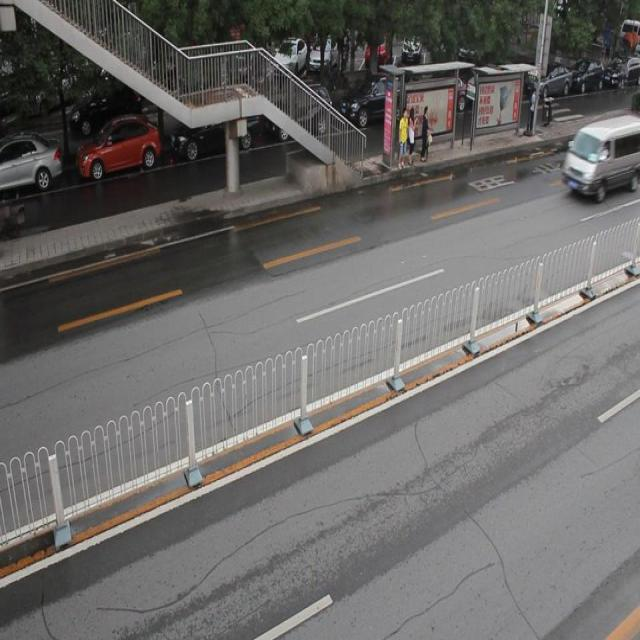car: (169, 99, 258, 161), (77, 115, 160, 181), (340, 69, 410, 129), (1, 135, 60, 196), (268, 84, 332, 139)
truck: (560, 118, 640, 202)
